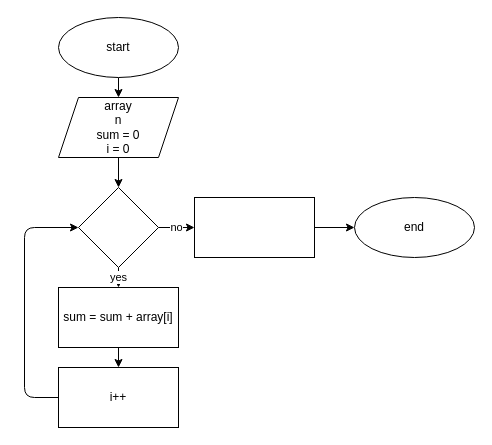
Image size: 492x445. Some labels were removed from this diagram. Each missing label, with the centre of its shape:
"i < n" goes at pixel 118 227.
"sr = sum / n" goes at pixel 254 227.
